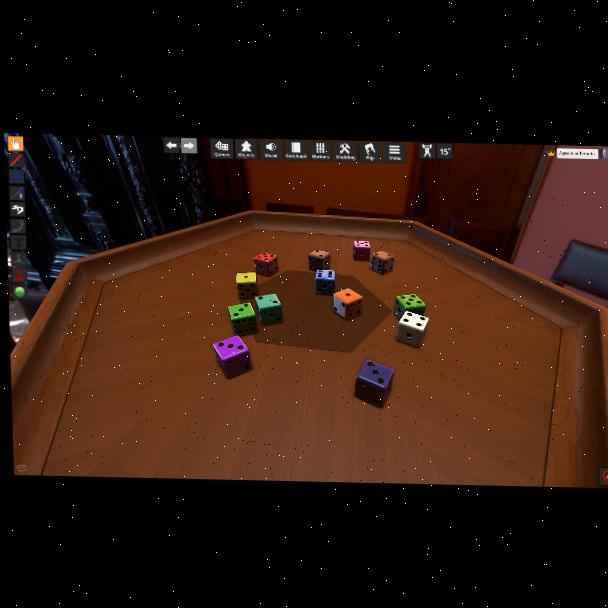d6: (352, 358, 394, 408), (213, 335, 252, 379), (395, 312, 430, 348), (227, 302, 257, 336), (332, 288, 362, 321), (256, 293, 284, 327), (393, 294, 424, 322), (236, 272, 259, 301), (253, 252, 278, 278), (369, 251, 394, 276), (314, 269, 335, 295), (307, 250, 328, 272), (353, 241, 372, 263)
